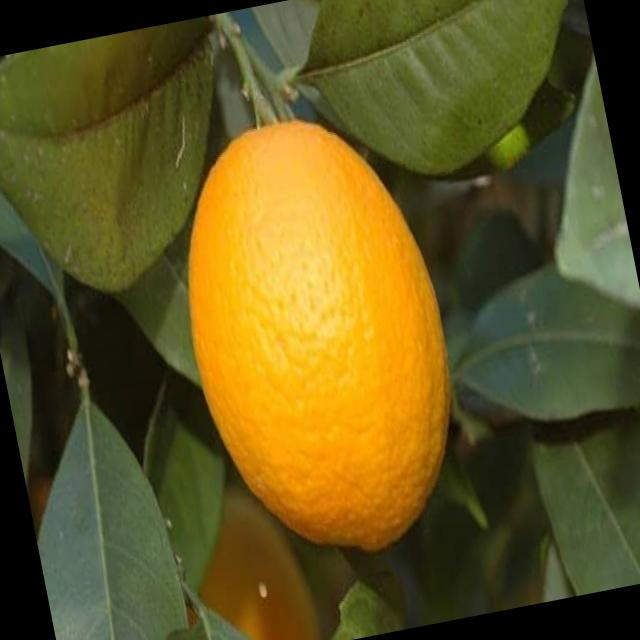orange: (157, 95, 477, 559)
